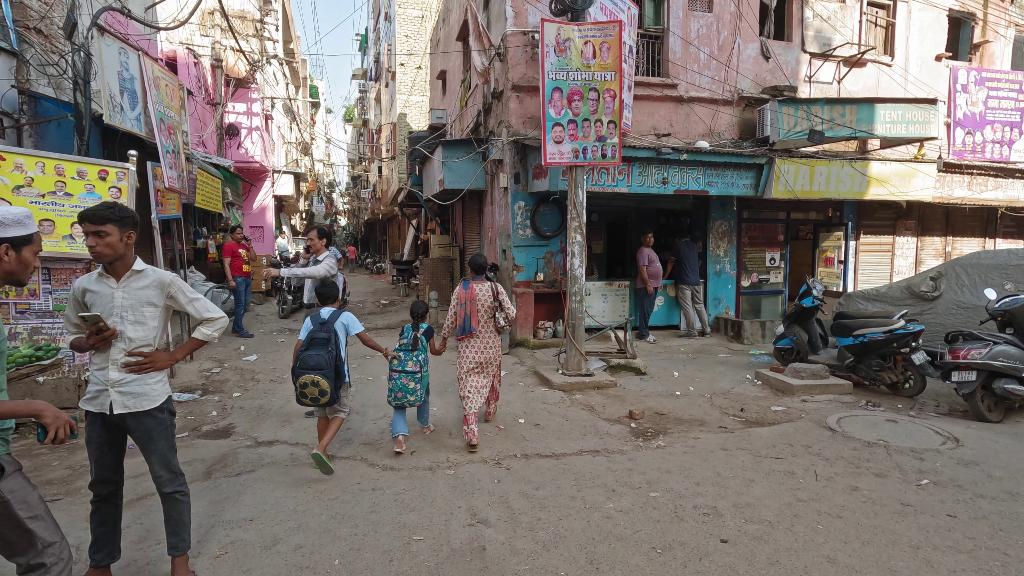garbage: (585, 355, 608, 373), (172, 391, 199, 402), (241, 352, 260, 363), (752, 354, 771, 363)
